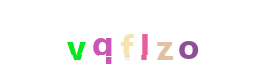F: (95, 0, 175, 80)
L: (98, 0, 178, 80)
O: (148, 0, 228, 80)
Q: (78, 0, 158, 80)
V: (36, 0, 116, 80)
Z: (102, 0, 182, 80)
